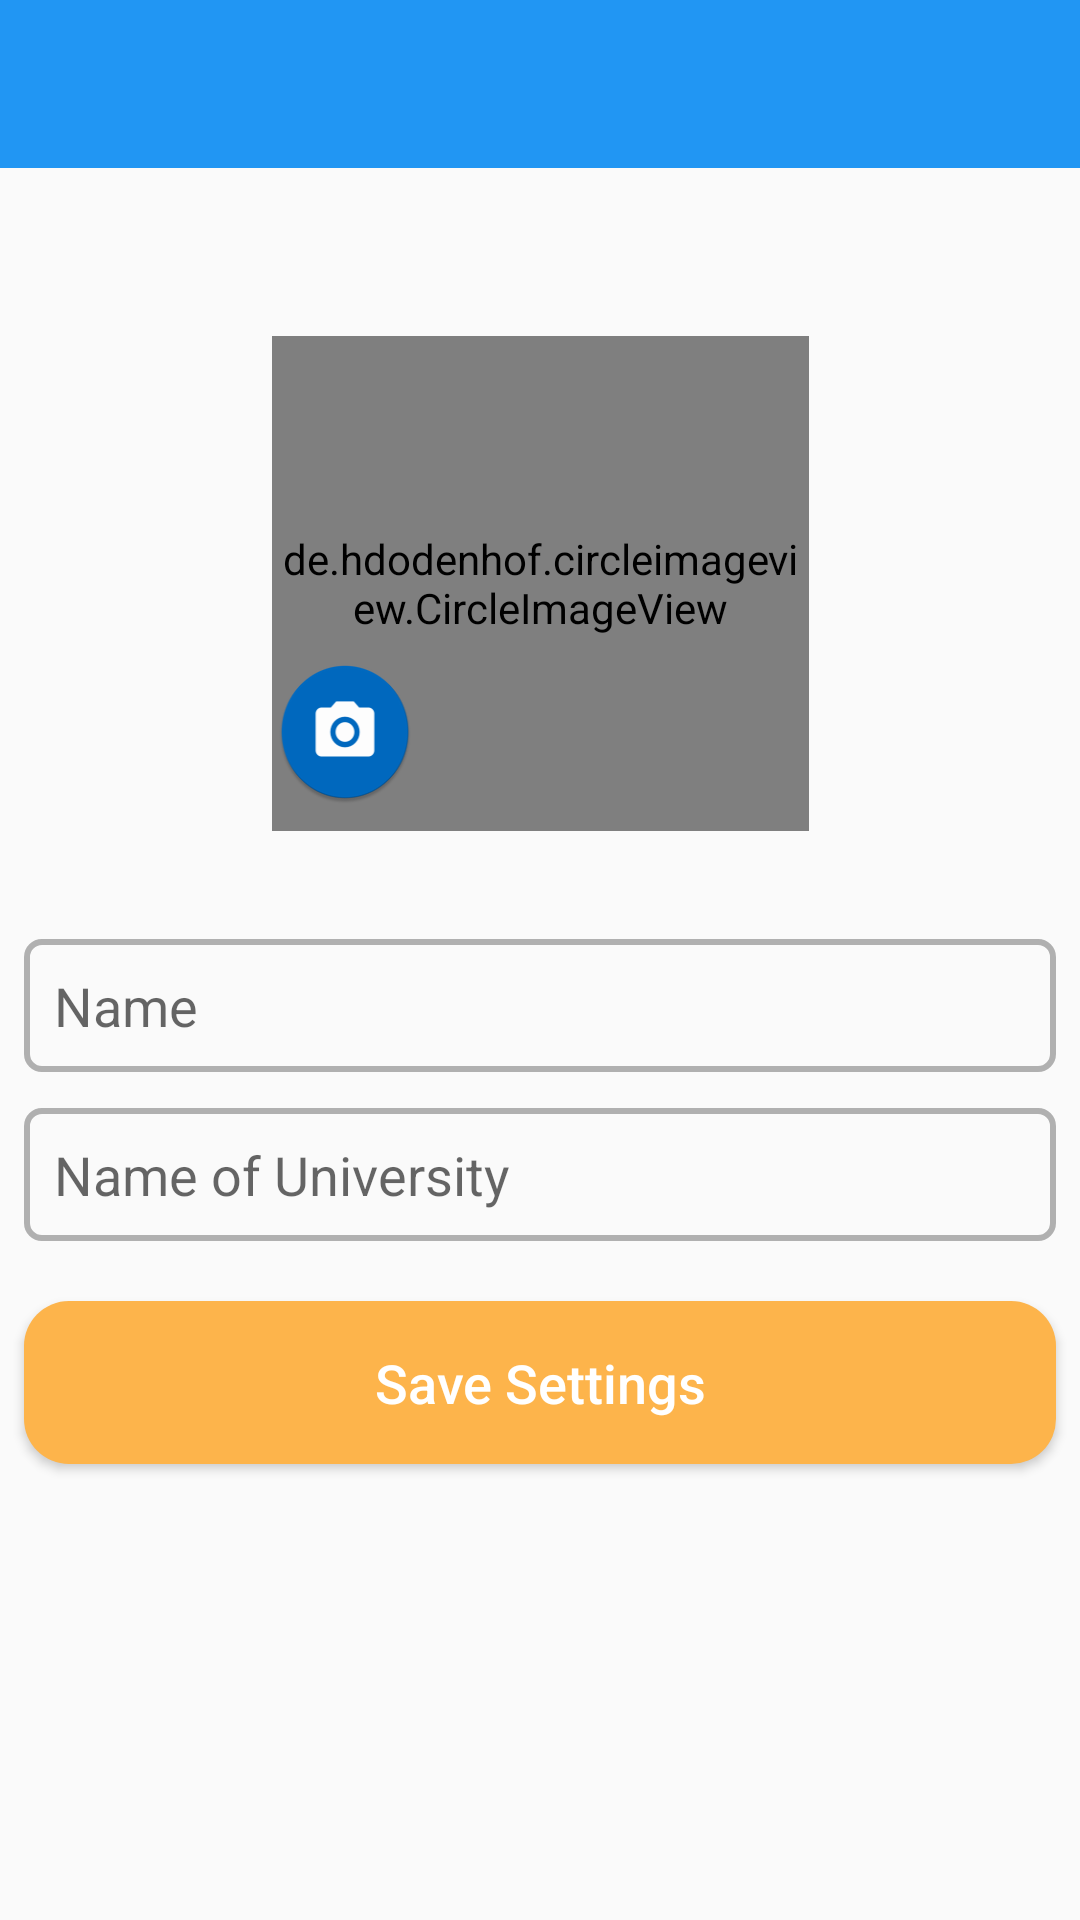

Icon bounding boxes for this 1080x1920 phone screenshot, format (x1, y1, x2, y2):
photo: (281, 665, 409, 799)
